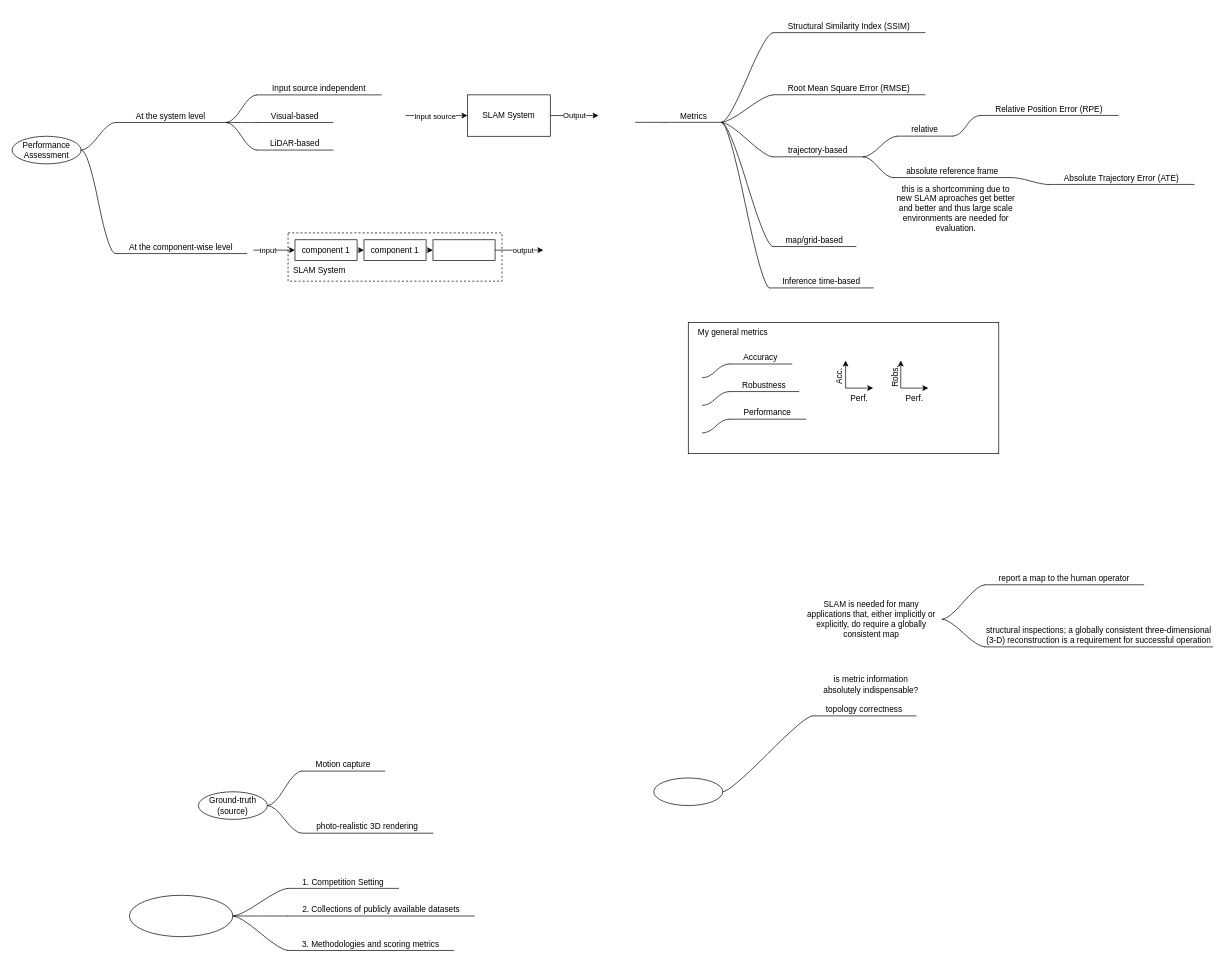
This 1225x963 diagram has some shape labels left out. The shapes that lost their labels are listed below. From the top down, each one's centre as x and y in pixels, then its label:
At pixel 463 249: "component N".
At pixel 688 791: "SLAM Metrics".
At pixel 181 916: "Activities related to performance metrics".
